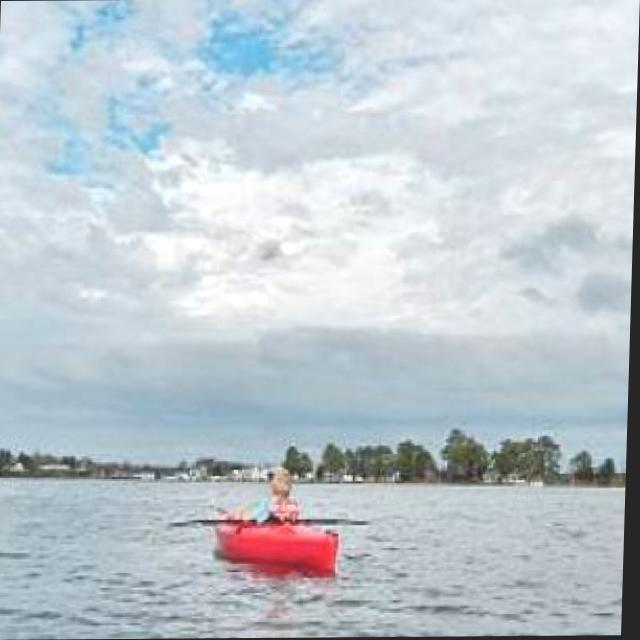kayak: (219, 519, 343, 574)
